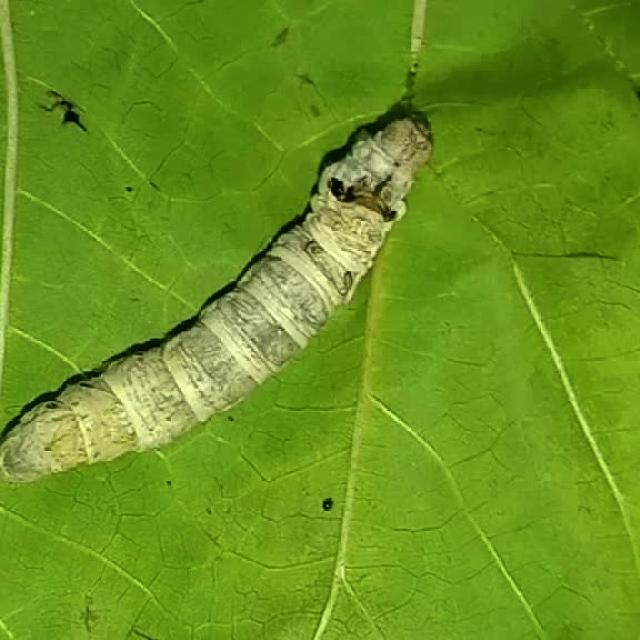Grasserie: (10, 86, 432, 504)
